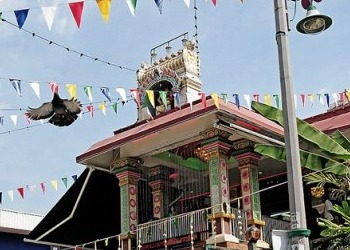Buddhist Temple: (87, 42, 268, 237)
